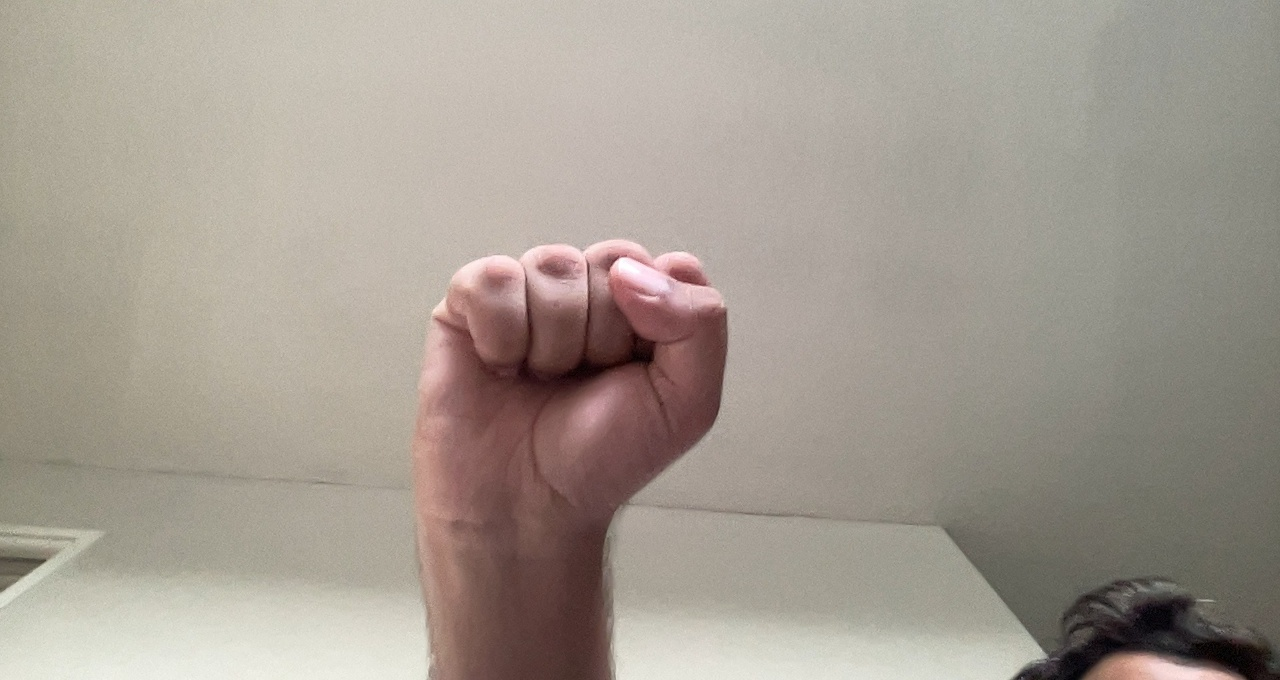closedfist: (405, 235, 735, 550)
